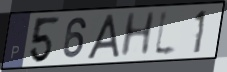1: (193, 8, 209, 55)
5: (27, 15, 62, 64)
6: (62, 16, 88, 60)
A: (85, 12, 122, 61)
H: (118, 10, 158, 59)
L: (151, 7, 180, 59)
